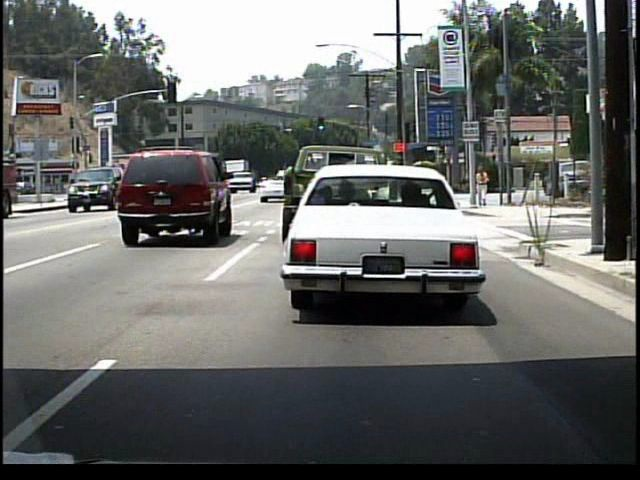person: (476, 167, 491, 209)
